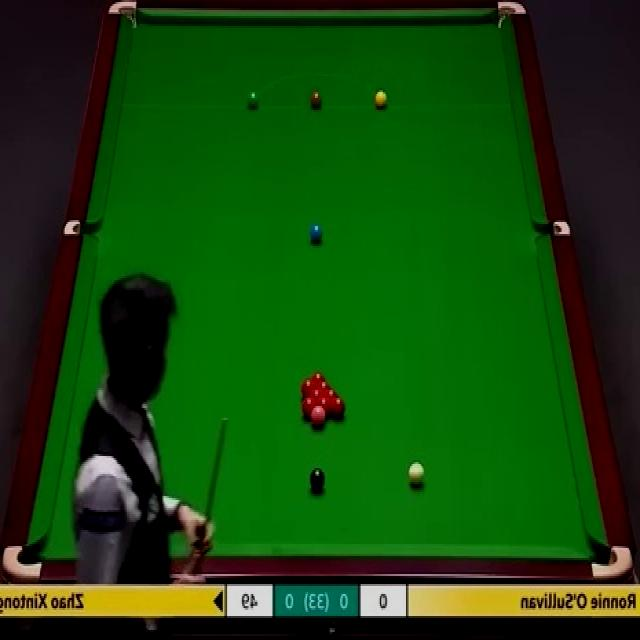black-ball: (309, 466, 326, 494)
blue-ball: (308, 220, 323, 245)
brown-ball: (309, 91, 323, 111)
green-ball: (244, 90, 258, 112)
pink-ball: (310, 406, 326, 428)
red-ball: (330, 397, 346, 419), (300, 398, 316, 418), (316, 397, 331, 418), (302, 378, 316, 394), (313, 378, 332, 388), (307, 386, 323, 397), (310, 370, 327, 380), (322, 386, 338, 396)
white-ball: (406, 460, 424, 488)
yellow-ball: (374, 90, 388, 110)
